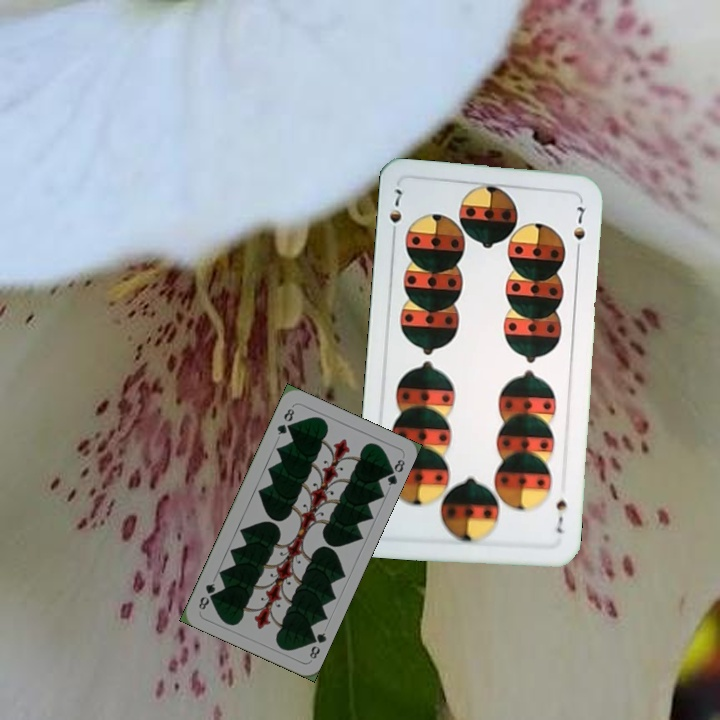G8: (273, 403, 297, 437), (305, 628, 329, 661)
S7: (385, 185, 405, 242), (552, 496, 569, 536)
